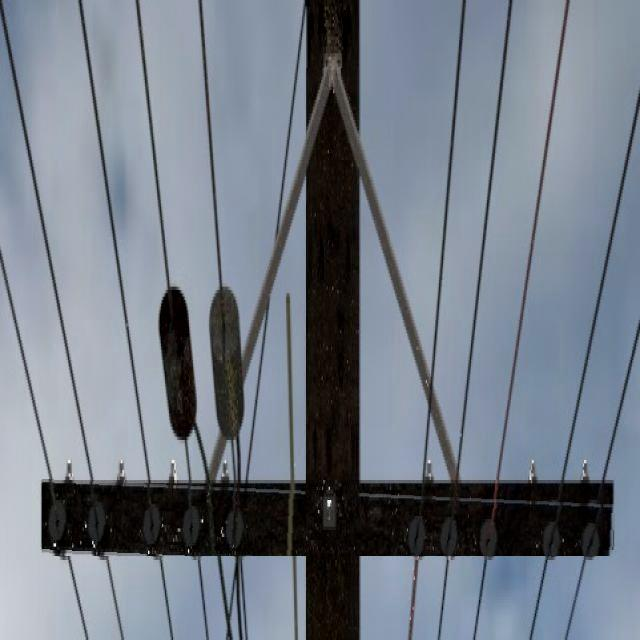crossarm: (42, 483, 615, 556)
pole: (306, 0, 359, 640)
